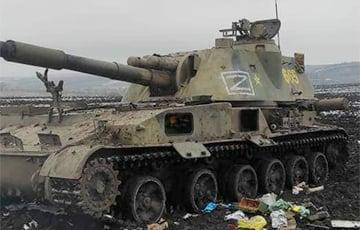sau: (13, 27, 334, 212)
